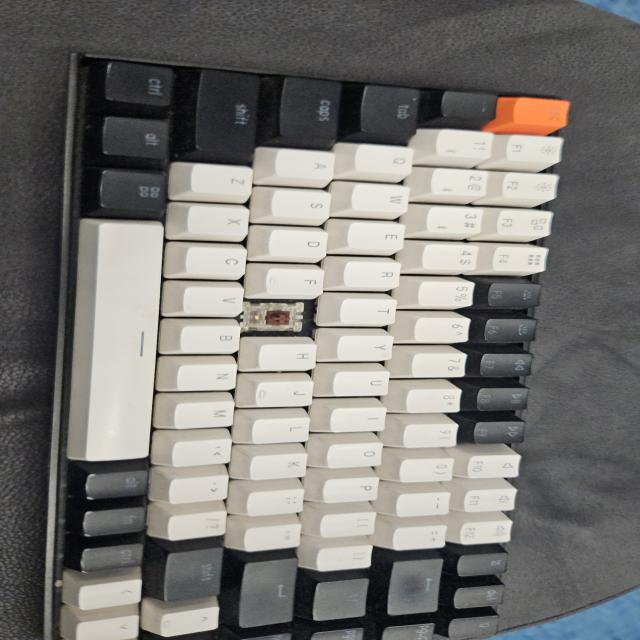C: (248, 303, 310, 334)
